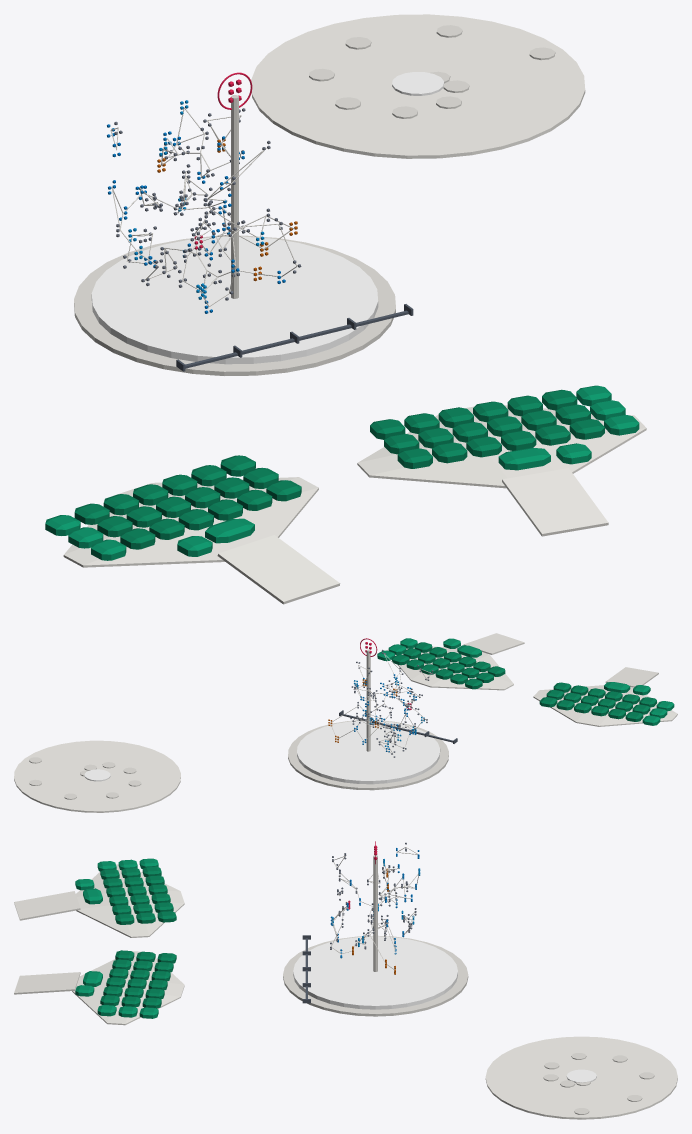
File: terminal.glb
3 renders of one model, top to bottom at view 1: azimuth 30°, elevation 25°; view 2: azimuth 150°, elevation 25°; view 3: azimuth 270°, elevation 25°, orthographic. The views are drawn at different scales.
Size of the model in its own units: 86.57 by 21.8 by 96.64.
